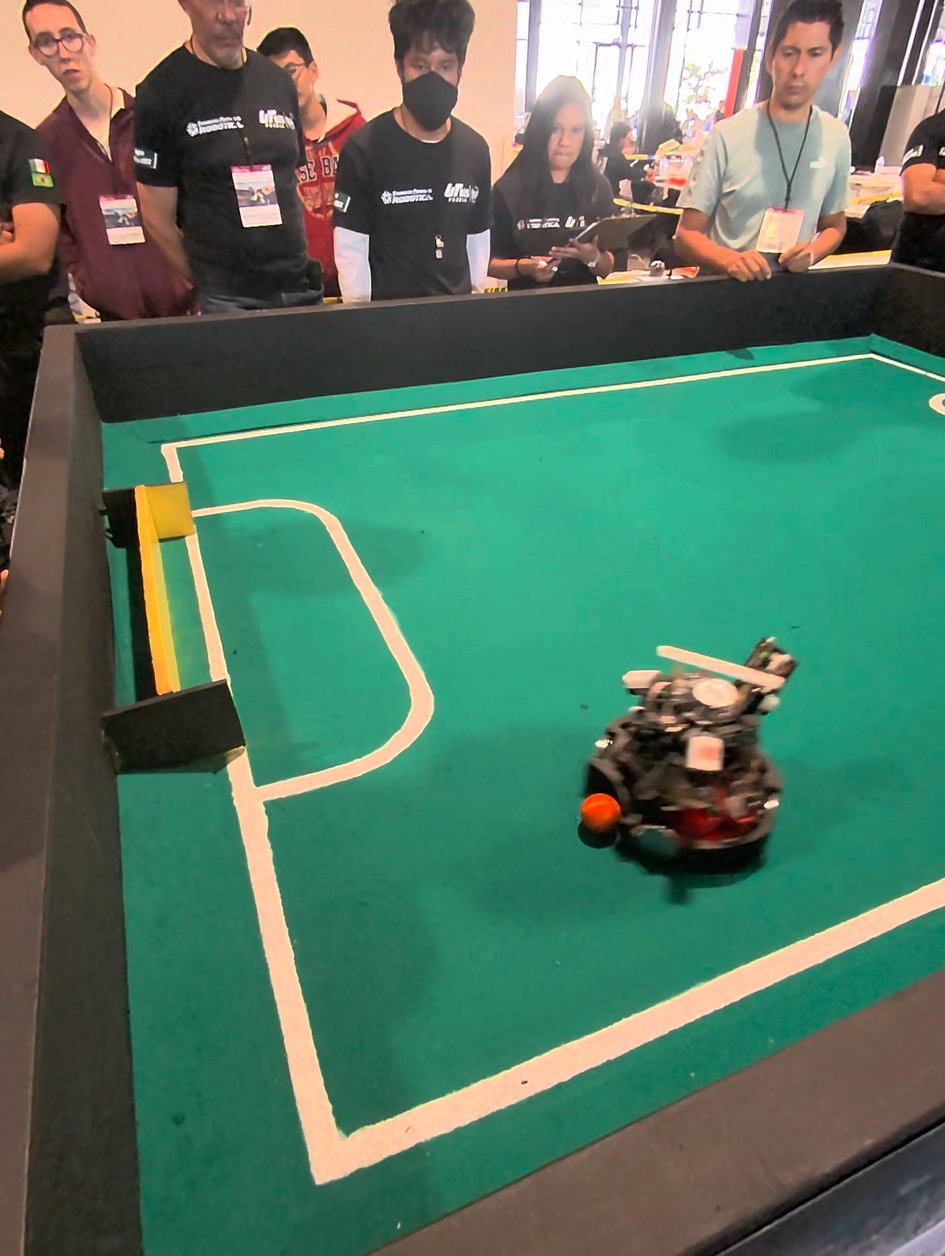Robot: (578, 609, 798, 900)
pelota: (578, 794, 620, 846)
